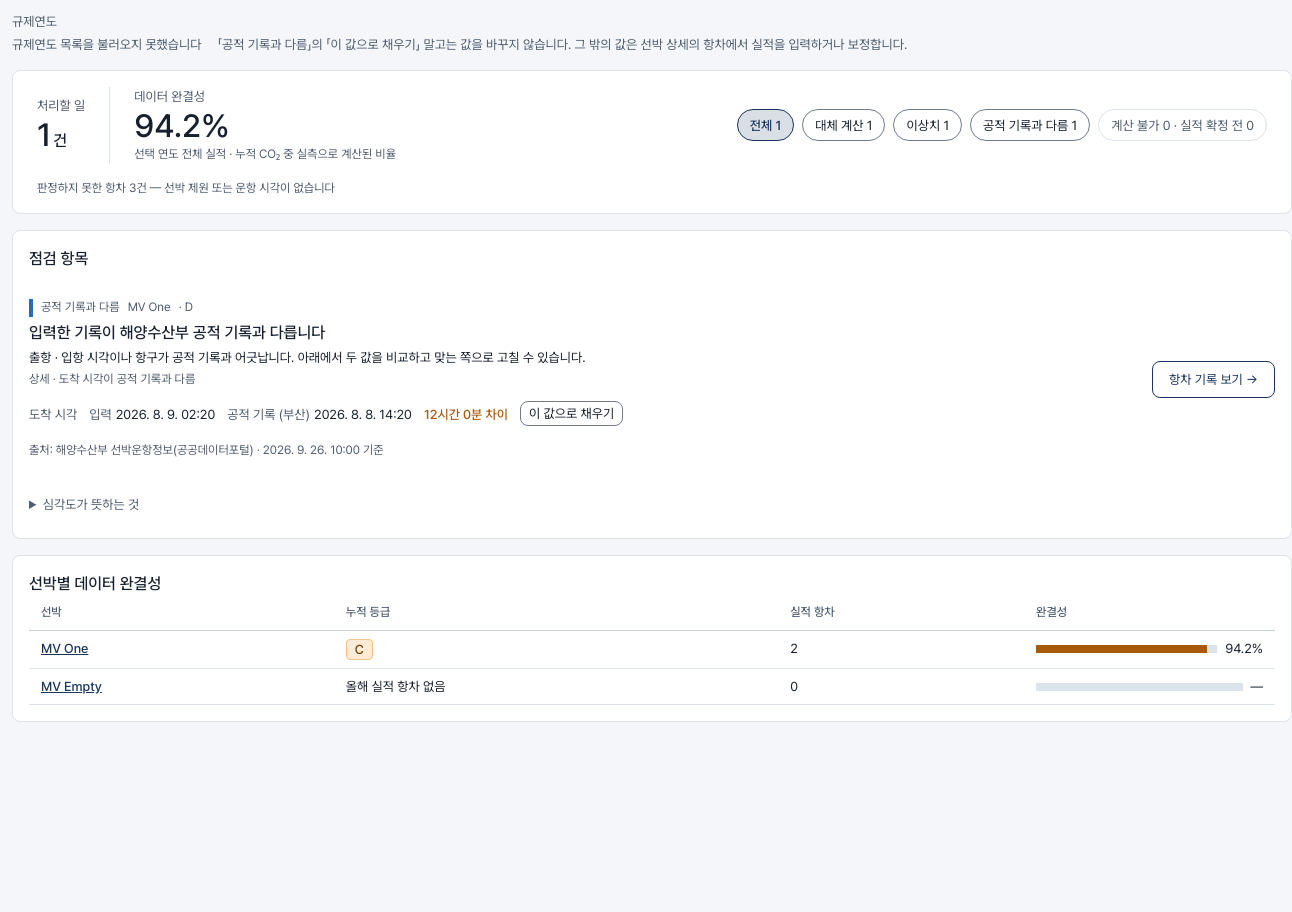
Test case: 이 값으로 채우기 (#1923) › 서버가 거절하면 그 문구를 누른 줄 곁에 보이고, 다시 불러오지 않는다
Expected: the heading "점검 항목" is shown, [29,249,88,268]
Click the button "이 값으로 채우기" at [572, 413], box [520,401,623,426]
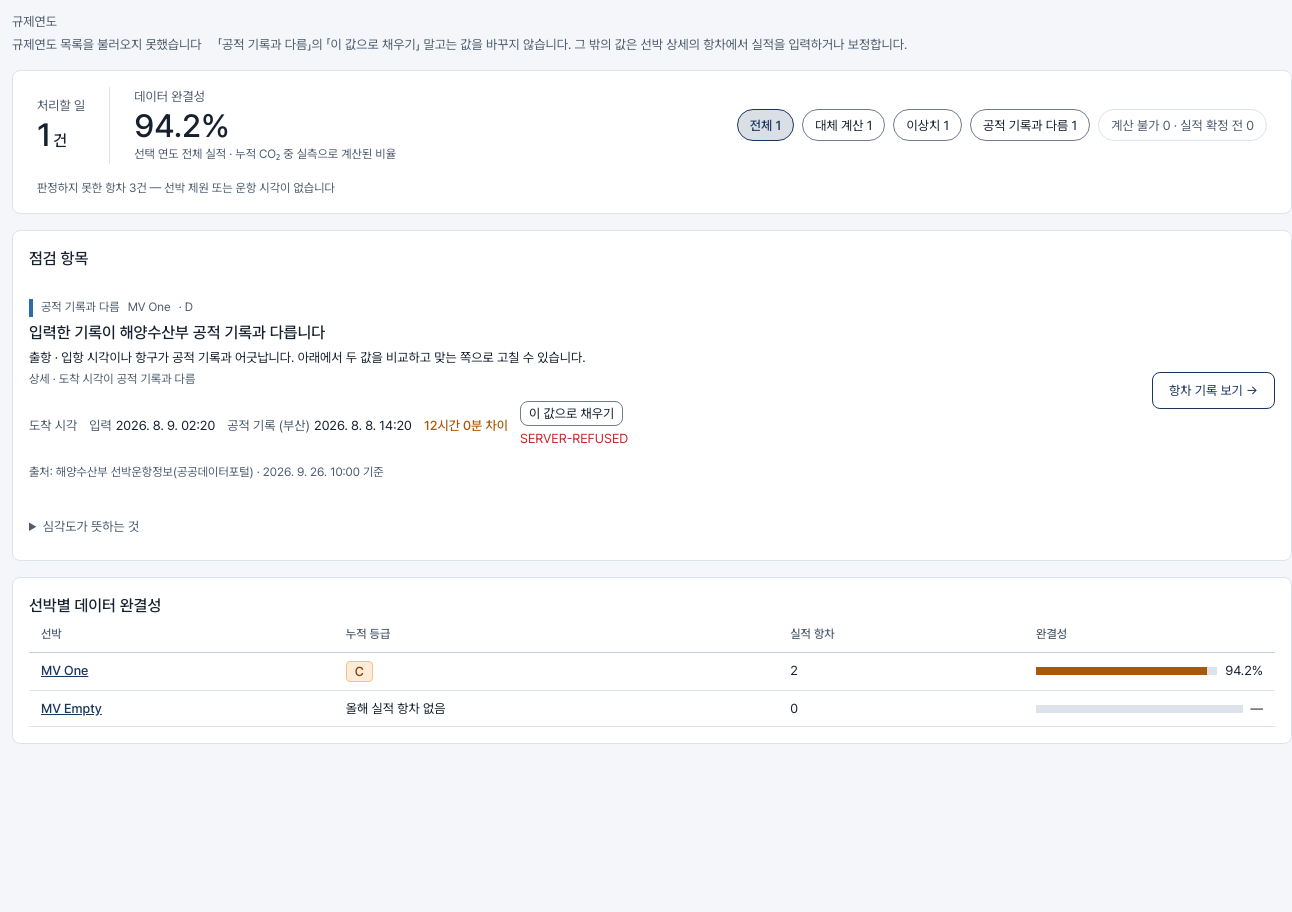
Result: the message reads "SERVER-REFUSED" at [520,431,628,446]
